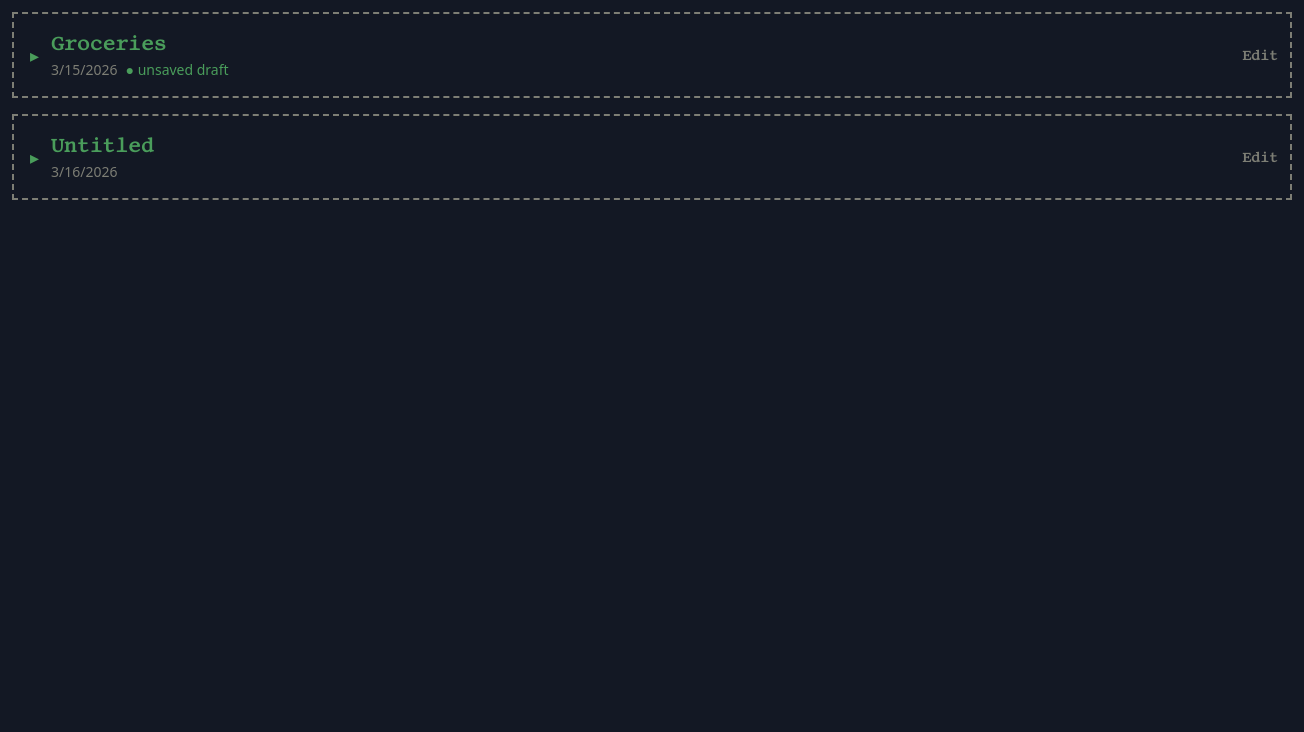
NoteList › edit drafts › restores an in-progress edit draft when the editor reopens
Click the button with aria-label "Edit Groceries" at {"x": 1260, "y": 55}, box [1230,45,1290,65]
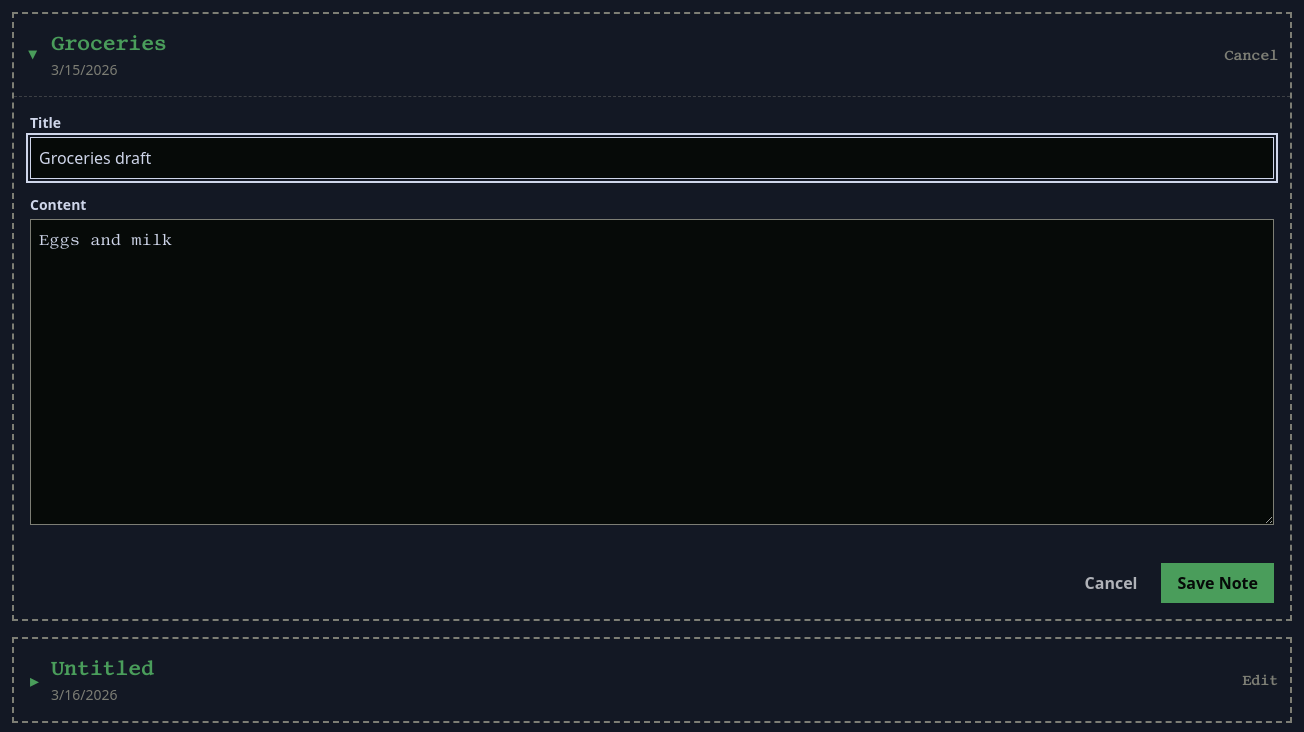
Check: the field showing "Groceries draft" is shown, box [30,137,1274,179]
Check: the text box showing "Eggs and milk" is shown, box [30,219,1274,525]
